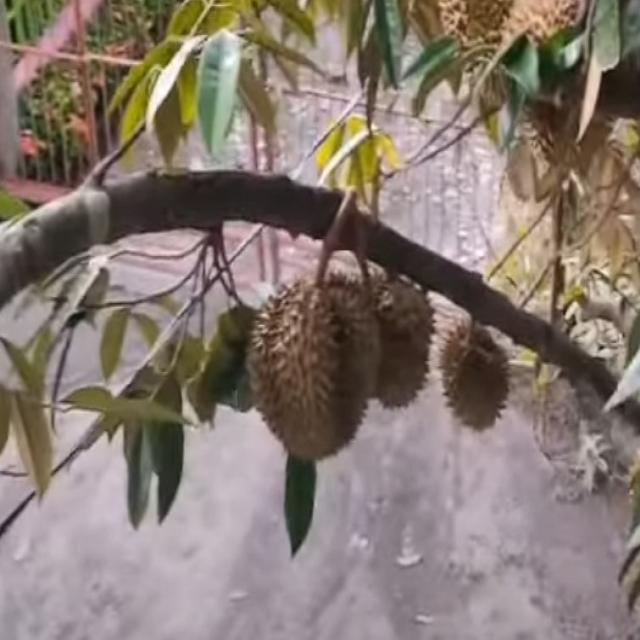mature: (245, 273, 378, 466), (347, 275, 432, 407), (437, 321, 510, 429)
